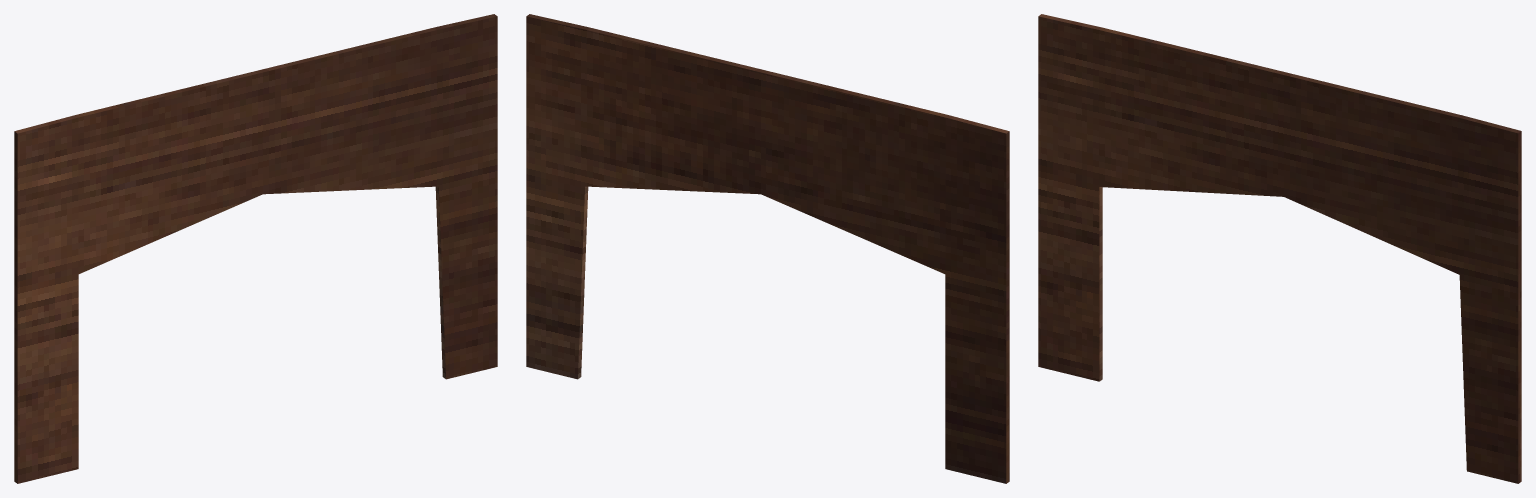
File: SM_Stage_Boarder.glb
The picture shows the model from 3 angles, left to right: view 1: azimuth 30°, elevation 25°; view 2: azimuth 150°, elevation 25°; view 3: azimuth 330°, elevation 25°; orthographic projection.
Parts seen in each view (by area): view 1: SM_Stage_boarder; view 2: SM_Stage_boarder; view 3: SM_Stage_boarder.
Boxes of the visible parts, x1,y1,x2,y2 form: SM_Stage_boarder: [14, 14, 497, 483]; SM_Stage_boarder: [526, 14, 1009, 483]; SM_Stage_boarder: [1038, 14, 1521, 483].
Size of the model in its own units: 20.43 by 14.31 by 0.2426.
Materials: 1 (1 with a texture image).
